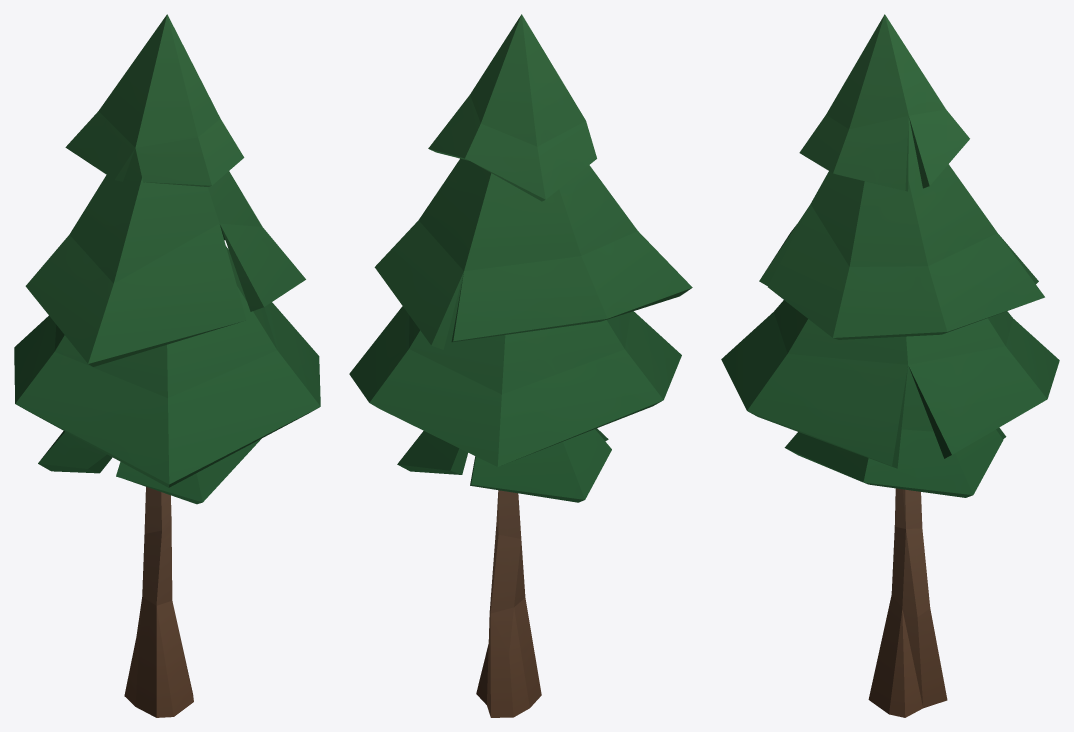
File: tree_pine_green.fbx
3 views of the same model, side by side, from view 1: azimuth 30°, elevation 25°; view 2: azimuth 150°, elevation 25°; view 3: azimuth 270°, elevation 25° (orthographic). The views are drawn at different scales.
Parts seen in each view (by area): view 1: tree_pine_green; view 2: tree_pine_green; view 3: tree_pine_green.
Boxes of the visible parts, x1,y1,x2,y2 form: tree_pine_green: (14,14,320,717); tree_pine_green: (349,14,692,717); tree_pine_green: (721,14,1059,717).
Size of the model in its own units: 5.47 by 11.97 by 5.35.
Materials: 1 (1 with a texture image).
